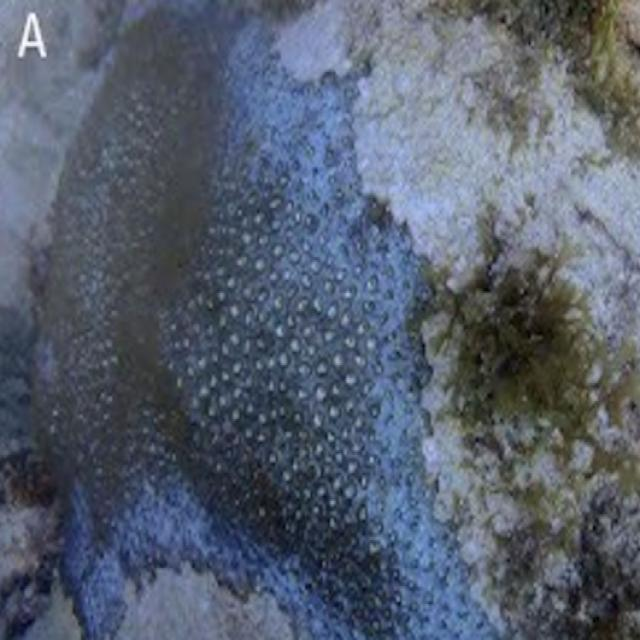Coral: (29, 0, 639, 640)
